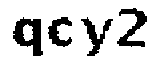2: (116, 5, 149, 52)
c: (47, 15, 75, 52)
q: (11, 15, 44, 60)
y: (78, 14, 114, 60)
